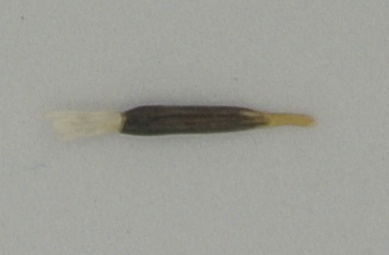เมล็ดงอกแตก: (52, 103, 319, 143)
